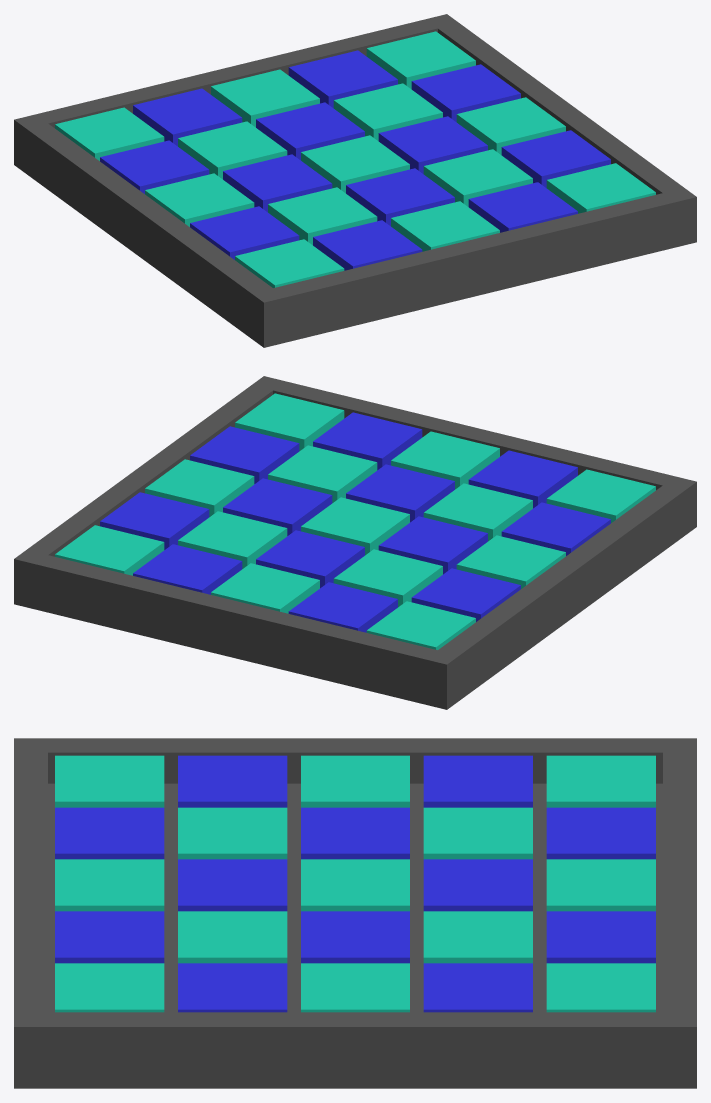
Rendered from dot.glb.
3 views of the same model, one above another, from view 1: azimuth 30°, elevation 25°; view 2: azimuth 150°, elevation 25°; view 3: azimuth 270°, elevation 25° (orthographic). The views are drawn at different scales.
Parts seen in each view (by area): view 1: dot; view 2: dot; view 3: dot.
Part boxes in pixels (bbox=[...]): dot: bbox=[14, 14, 696, 347]; dot: bbox=[14, 376, 696, 709]; dot: bbox=[14, 738, 696, 1088].
Size of the model in its own units: 2 by 0.2 by 2.
